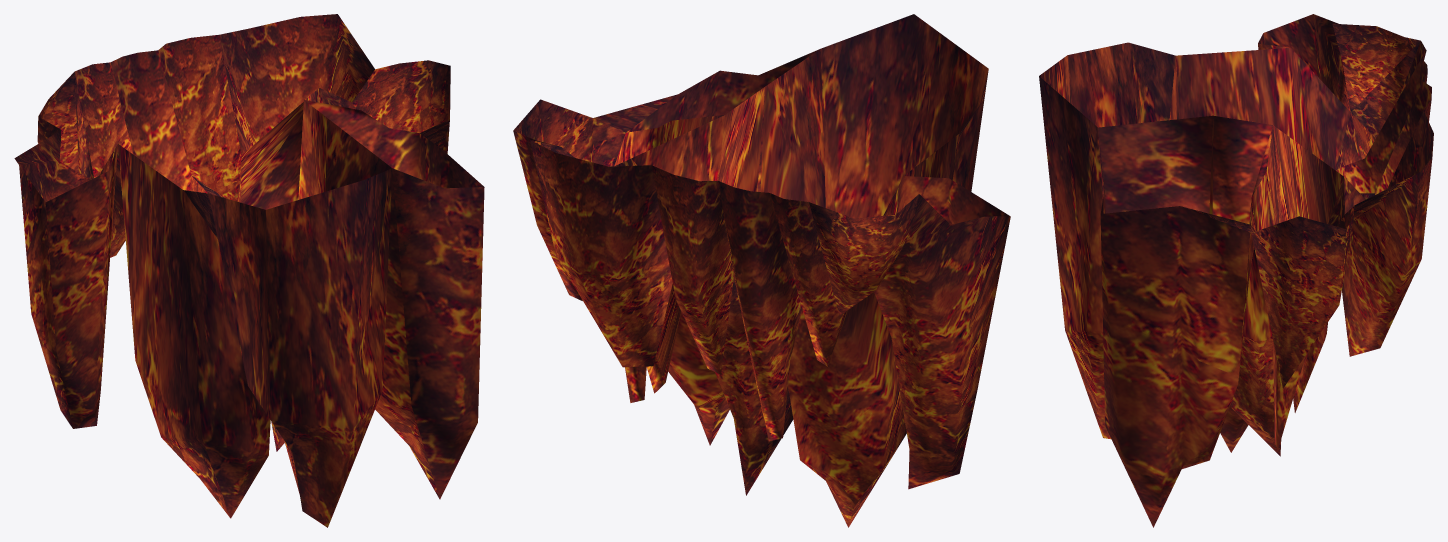
File: Scene_rongyan_013.FBX
3 views of the same model, side by side, from view 1: azimuth 30°, elevation 25°; view 2: azimuth 150°, elevation 25°; view 3: azimuth 270°, elevation 25° (orthographic). The views are drawn at different scales.
Parts seen in each view (by area): view 1: Scene_rongyan_013; view 2: Scene_rongyan_013; view 3: Scene_rongyan_013.
Boxes of the visible parts, box(x1,y1,x2,y2) form: Scene_rongyan_013: box(14, 14, 484, 527); Scene_rongyan_013: box(513, 14, 1010, 527); Scene_rongyan_013: box(1039, 14, 1433, 527).
Bounding box in the file's own units: 12.81 × 11.54 × 10.47.
